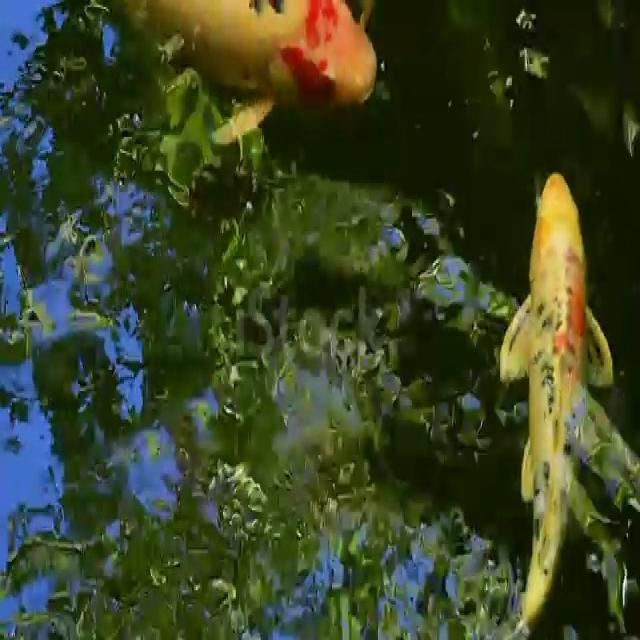fish: (488, 139, 626, 640), (123, 0, 367, 92)
